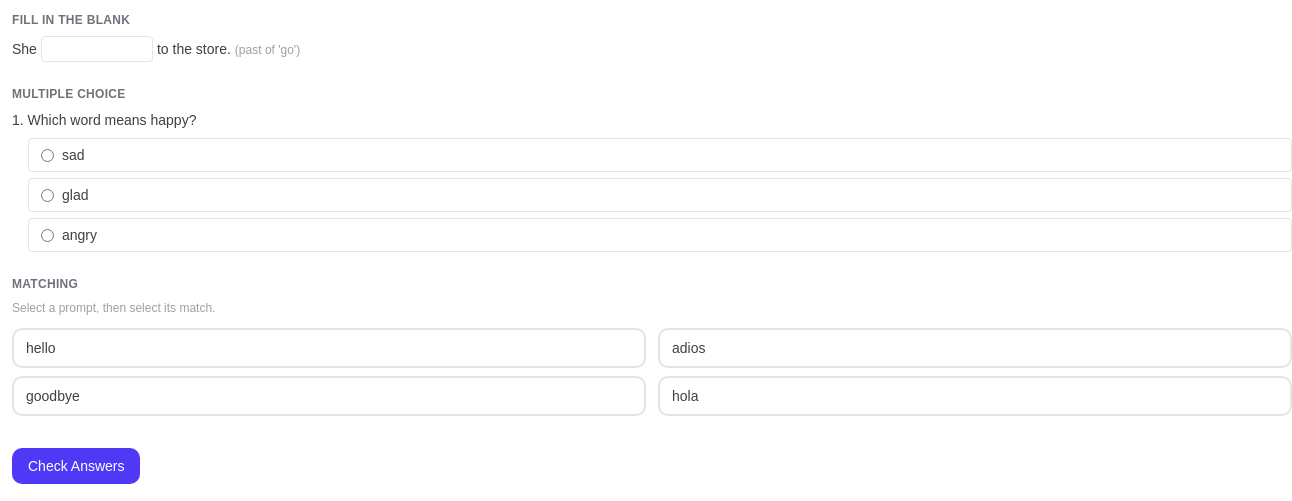
Test: ExercisesRenderer.Student › shows score after checking correct answers
Type "went" into the field with test id "fib-input-0" at {"x": 97, "y": 49}, box [41,36,153,62]
Click the radio button with test id "mc-option-0-1" at {"x": 48, "y": 195}, box [41,188,54,202]
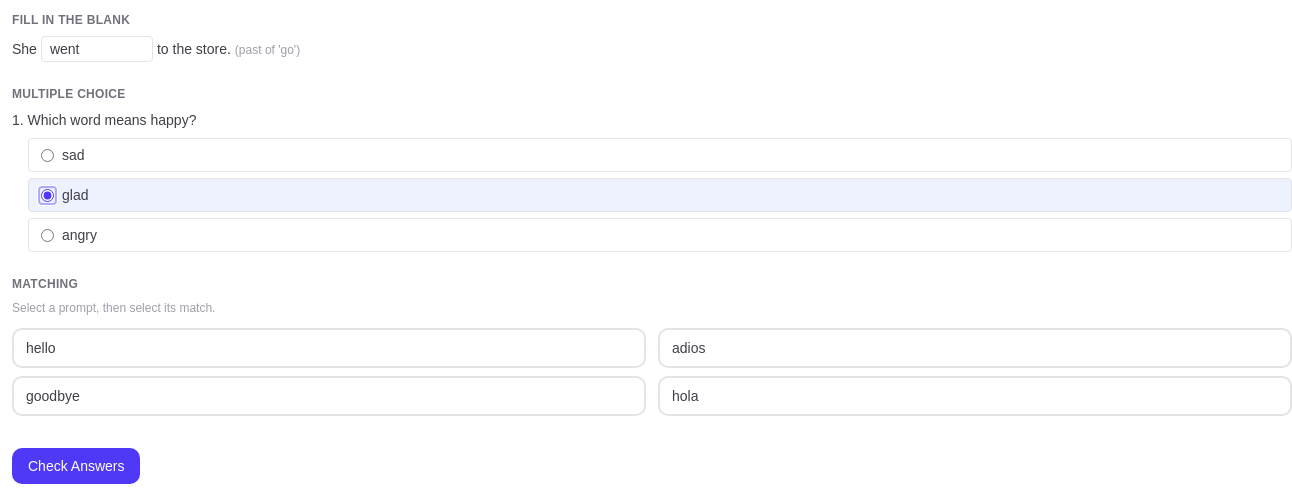
Click the text with test id "match-left-0" at {"x": 329, "y": 348}, box [12,328,646,368]
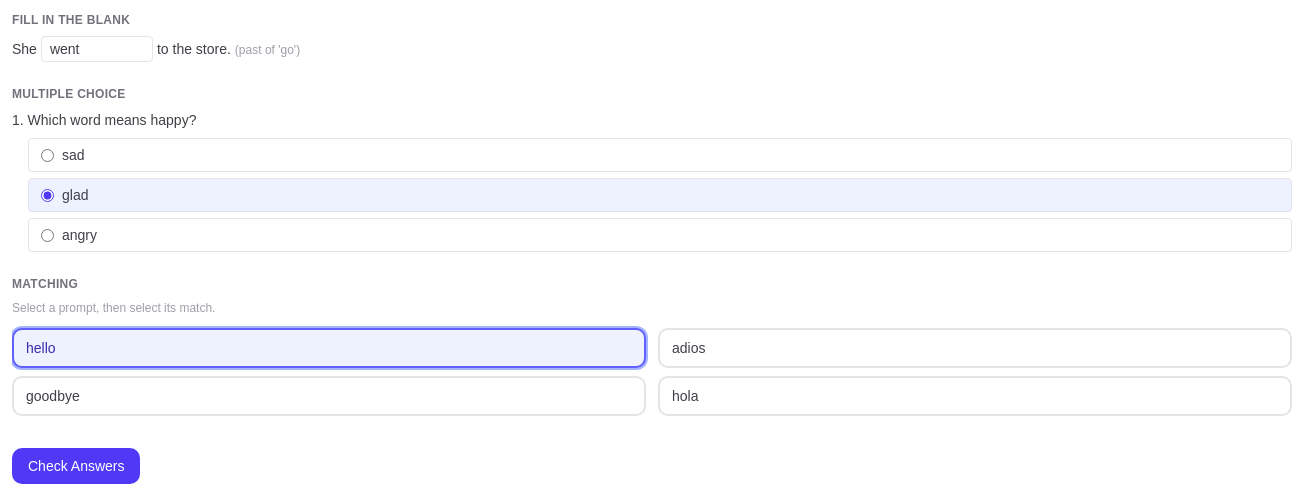
Click the text "hola" at {"x": 975, "y": 396}, box [658,376,1291,416]
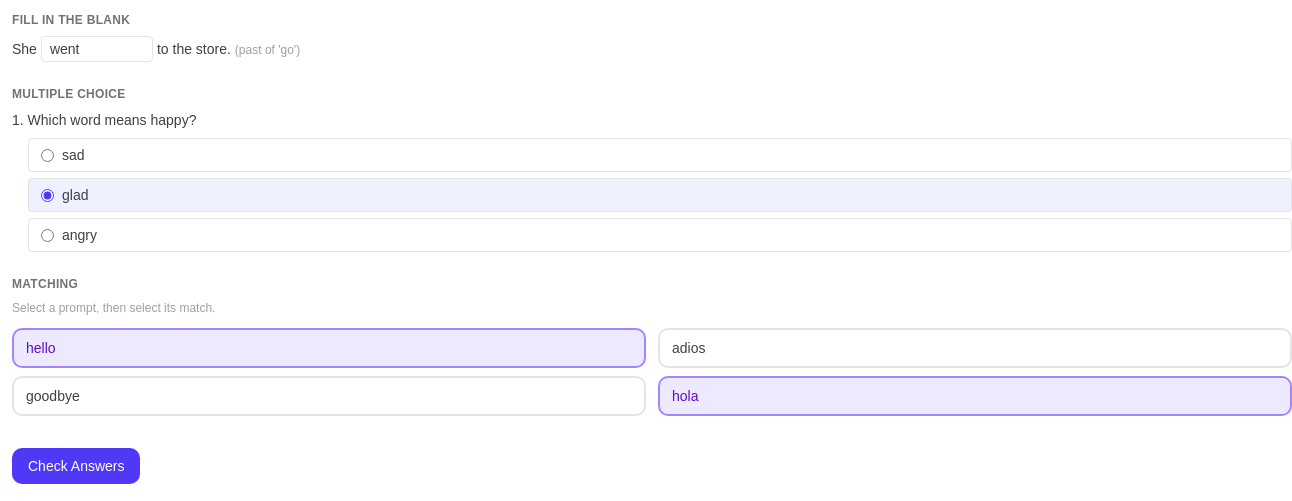
Click the text with test id "match-left-1" at {"x": 329, "y": 396}, box [12,376,646,416]
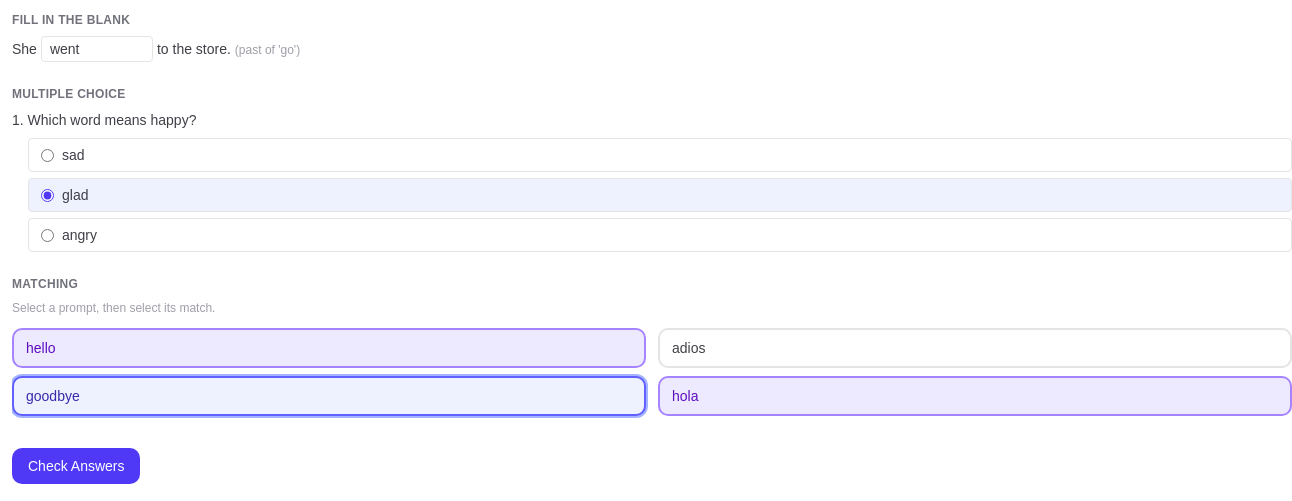
Click the text "adios" at {"x": 975, "y": 348}, box [658,328,1291,368]
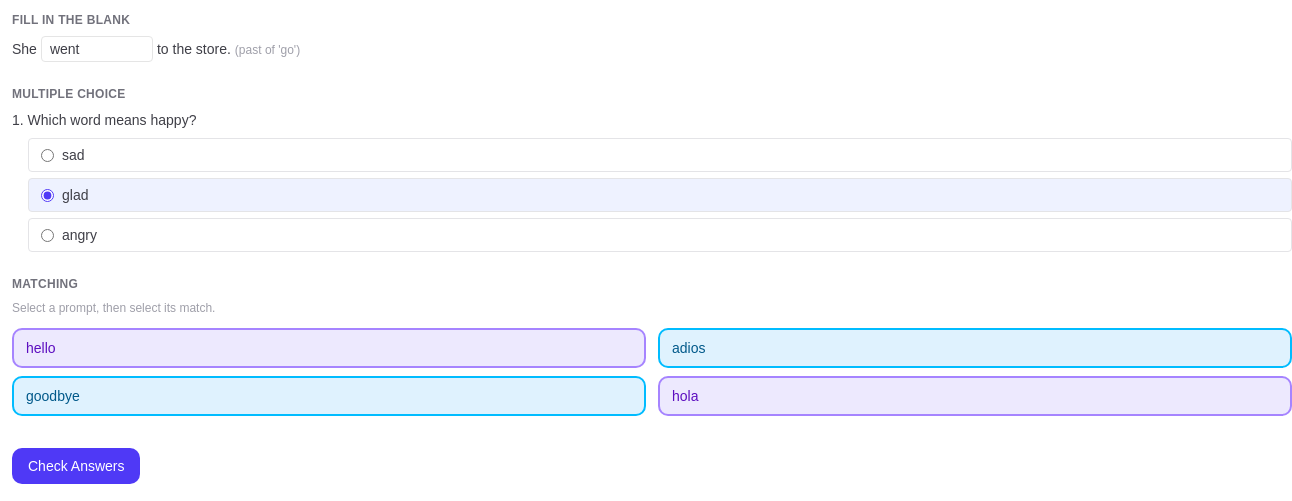
Click the button with test id "check-answers-btn" at {"x": 76, "y": 466}, box [12,448,140,484]
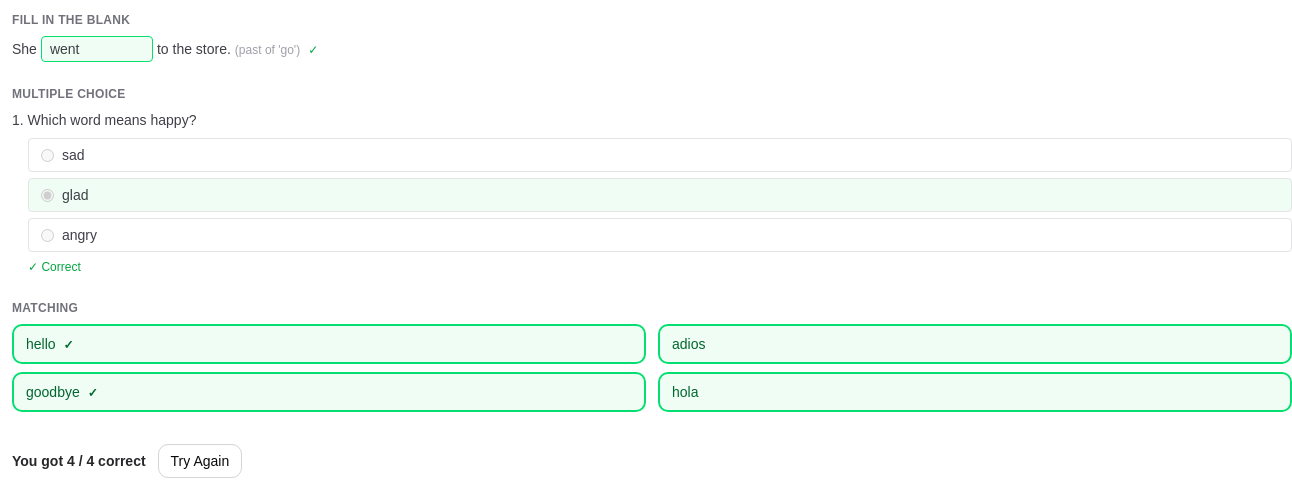
Now the text with test id "score-summary" reads "You got 4 / 4 correct", box [12,451,146,471]
Now the text with test id "fib-result-0" reads "✓", box [308,43,318,57]
